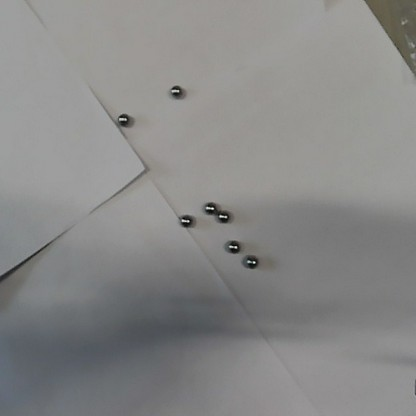ironball: (177, 212, 192, 226), (225, 241, 238, 254), (245, 254, 257, 267), (215, 209, 228, 221), (169, 85, 181, 98), (202, 202, 213, 215), (117, 113, 127, 125)
